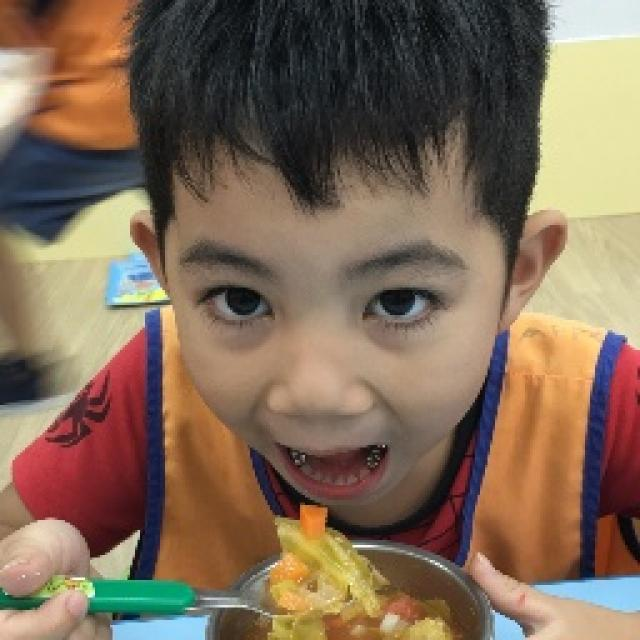earlobe: (497, 210, 568, 334), (130, 210, 172, 300)
